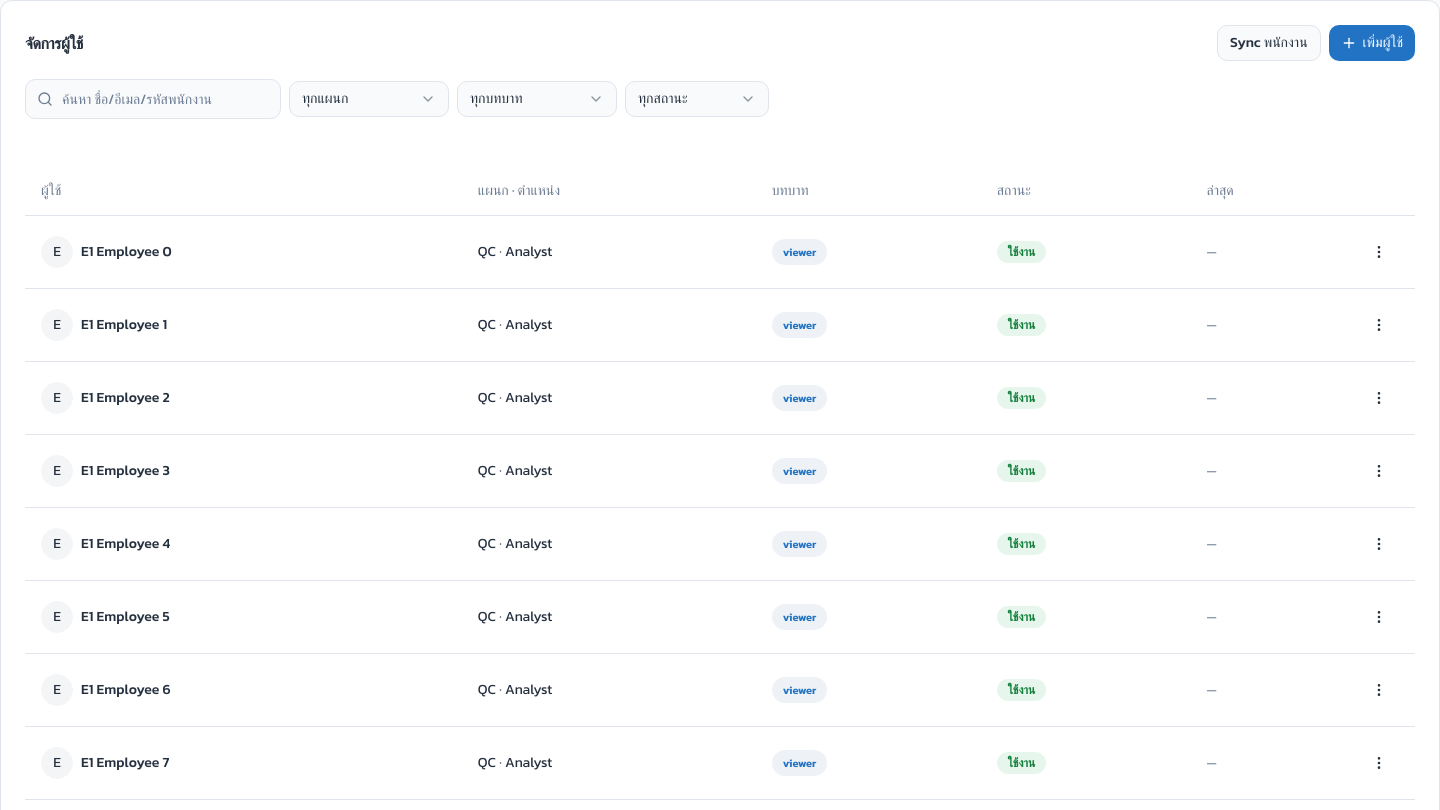
access search ranking › ranks UsersTab before its 25-row pagination
Expected: the text "Exact" is not shown
Type "E1" into the field with placeholder "ค้นหา ชื่อ/อีเมล/รหัสพนักงาน" at coordinates (153, 99), box [25, 79, 281, 119]
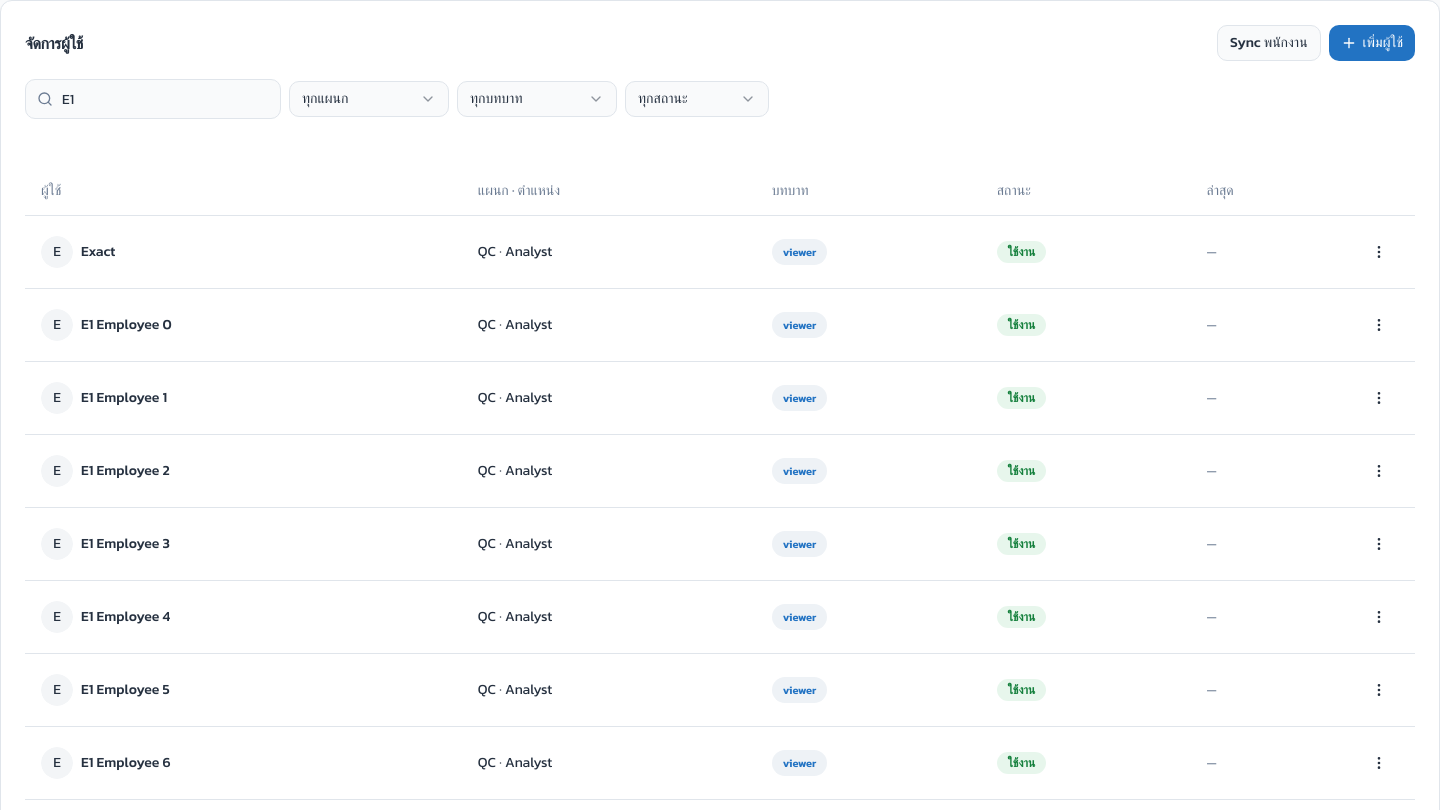
Expected: the row "E Exact QC · Analyst viewer ใช้งาน —" is shown, [25, 215, 1415, 288]
